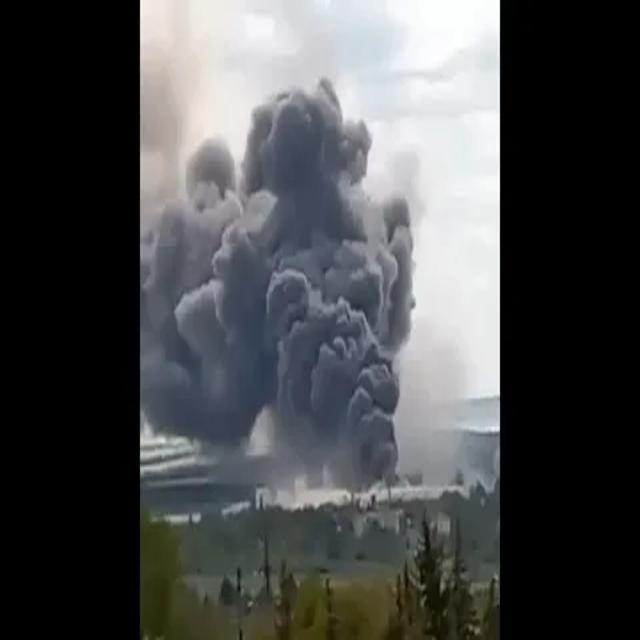Smoke: (142, 80, 416, 484)
